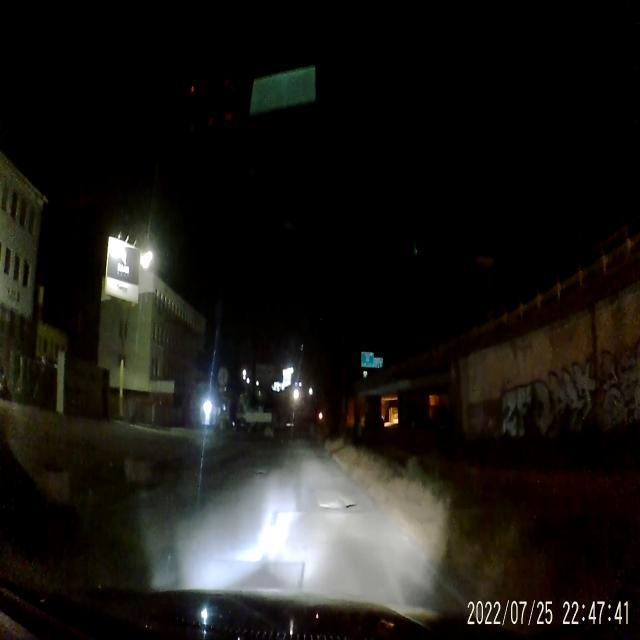Pothole: (320, 494, 358, 513)
